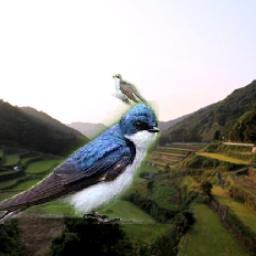Cuckoo: (113, 75, 151, 109)
Swallow: (0, 100, 160, 224)
